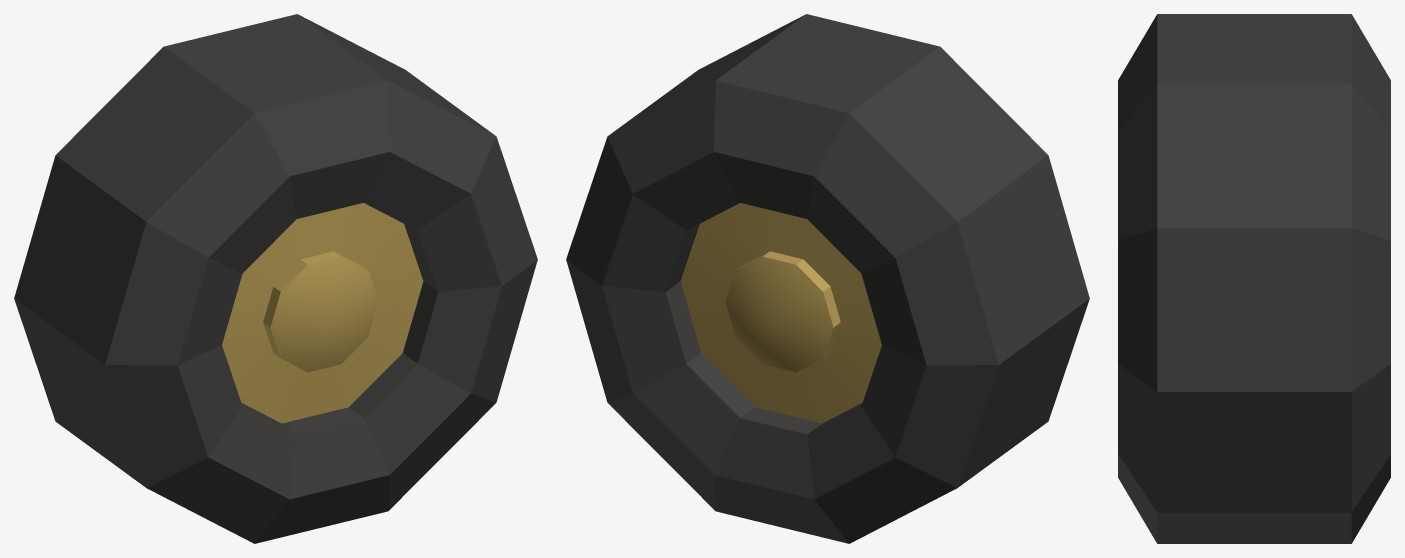
The model's file is Kart_Tire_Front_R.fbx.
3 renders of one model, left to right at view 1: azimuth 30°, elevation 25°; view 2: azimuth 150°, elevation 25°; view 3: azimuth 270°, elevation 25°, orthographic. The views are drawn at different scales.
Parts seen in each view (by area): view 1: Tire_Front_R; view 2: Tire_Front_R; view 3: Tire_Front_R.
Part boxes in pixels (left/top/right/bottom): Tire_Front_R: left=14, top=14, right=537, bottom=543; Tire_Front_R: left=566, top=14, right=1089, bottom=543; Tire_Front_R: left=1118, top=14, right=1390, bottom=543.
Bounding box in the file's own units: 20.63 × 19.62 × 10.54.
